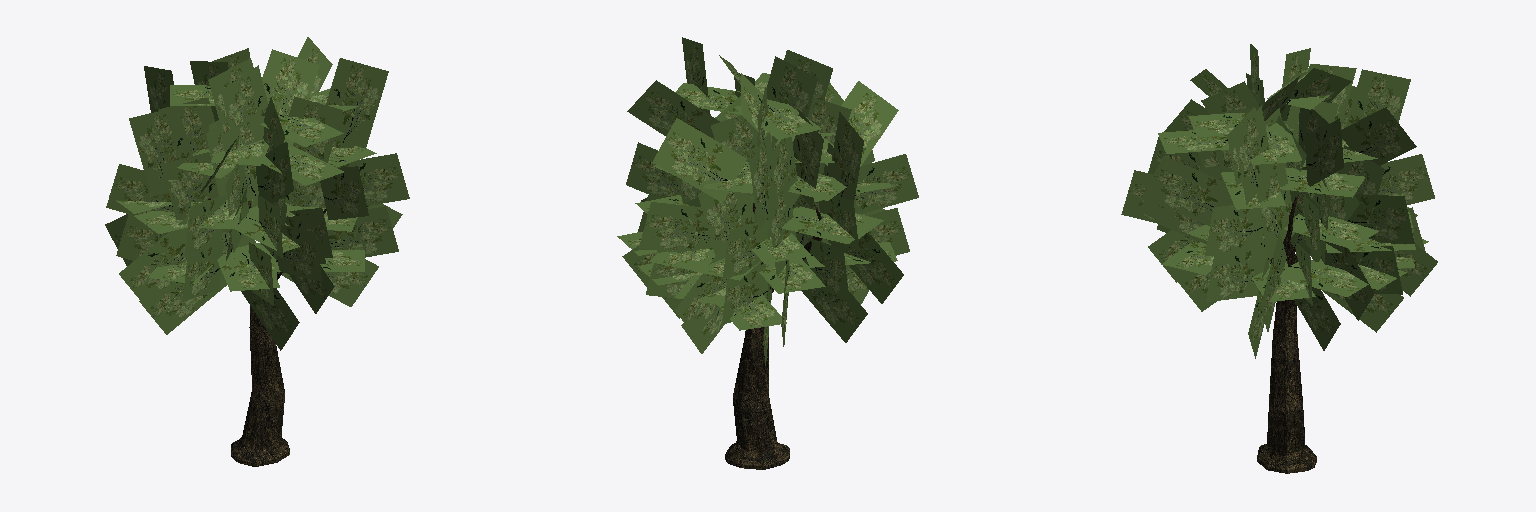
3 views of the same model, side by side, from view 1: azimuth 30°, elevation 25°; view 2: azimuth 150°, elevation 25°; view 3: azimuth 270°, elevation 25° (orthographic).
Visible parts, largest first — view 1: Branch162.001, Trunk013.001; view 2: Branch162.001, Trunk013.001; view 3: Branch162.001, Trunk013.001.
Part boxes in pixels (bbox=[...]): Branch162.001: bbox=[105, 37, 409, 350]; Trunk013.001: bbox=[208, 198, 326, 466]; Branch162.001: bbox=[617, 37, 918, 365]; Trunk013.001: bbox=[725, 203, 821, 469]; Branch162.001: bbox=[1121, 44, 1437, 358]; Trunk013.001: bbox=[1257, 193, 1316, 473].
Size of the model in its own units: 0.751 by 1.05 by 0.7535.
Materials: 2 (2 with a texture image).